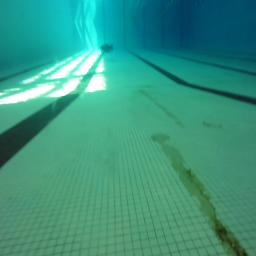Full: (100, 44, 114, 53)
